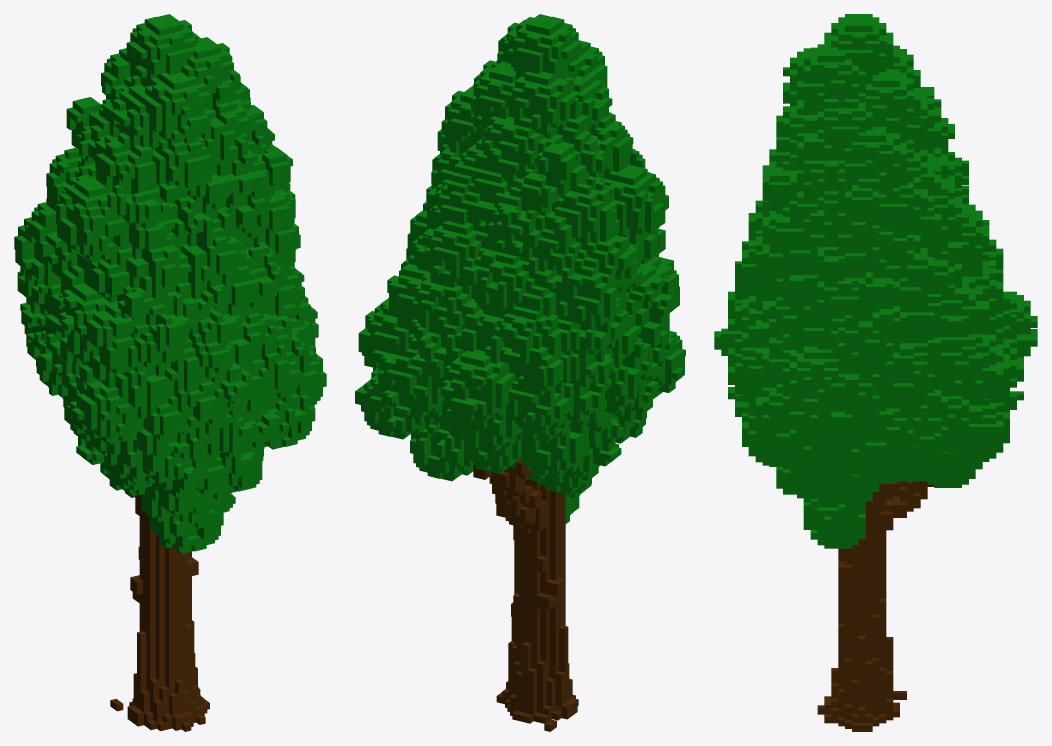
Rendered from prop_tree_t2.obj.
The picture shows the model from 3 angles, left to right: view 1: azimuth 30°, elevation 25°; view 2: azimuth 150°, elevation 25°; view 3: azimuth 270°, elevation 25°; orthographic projection.
Bounding box in the file's own units: 4.1 × 11.1 × 4.7.
1 material, 1 textured.
